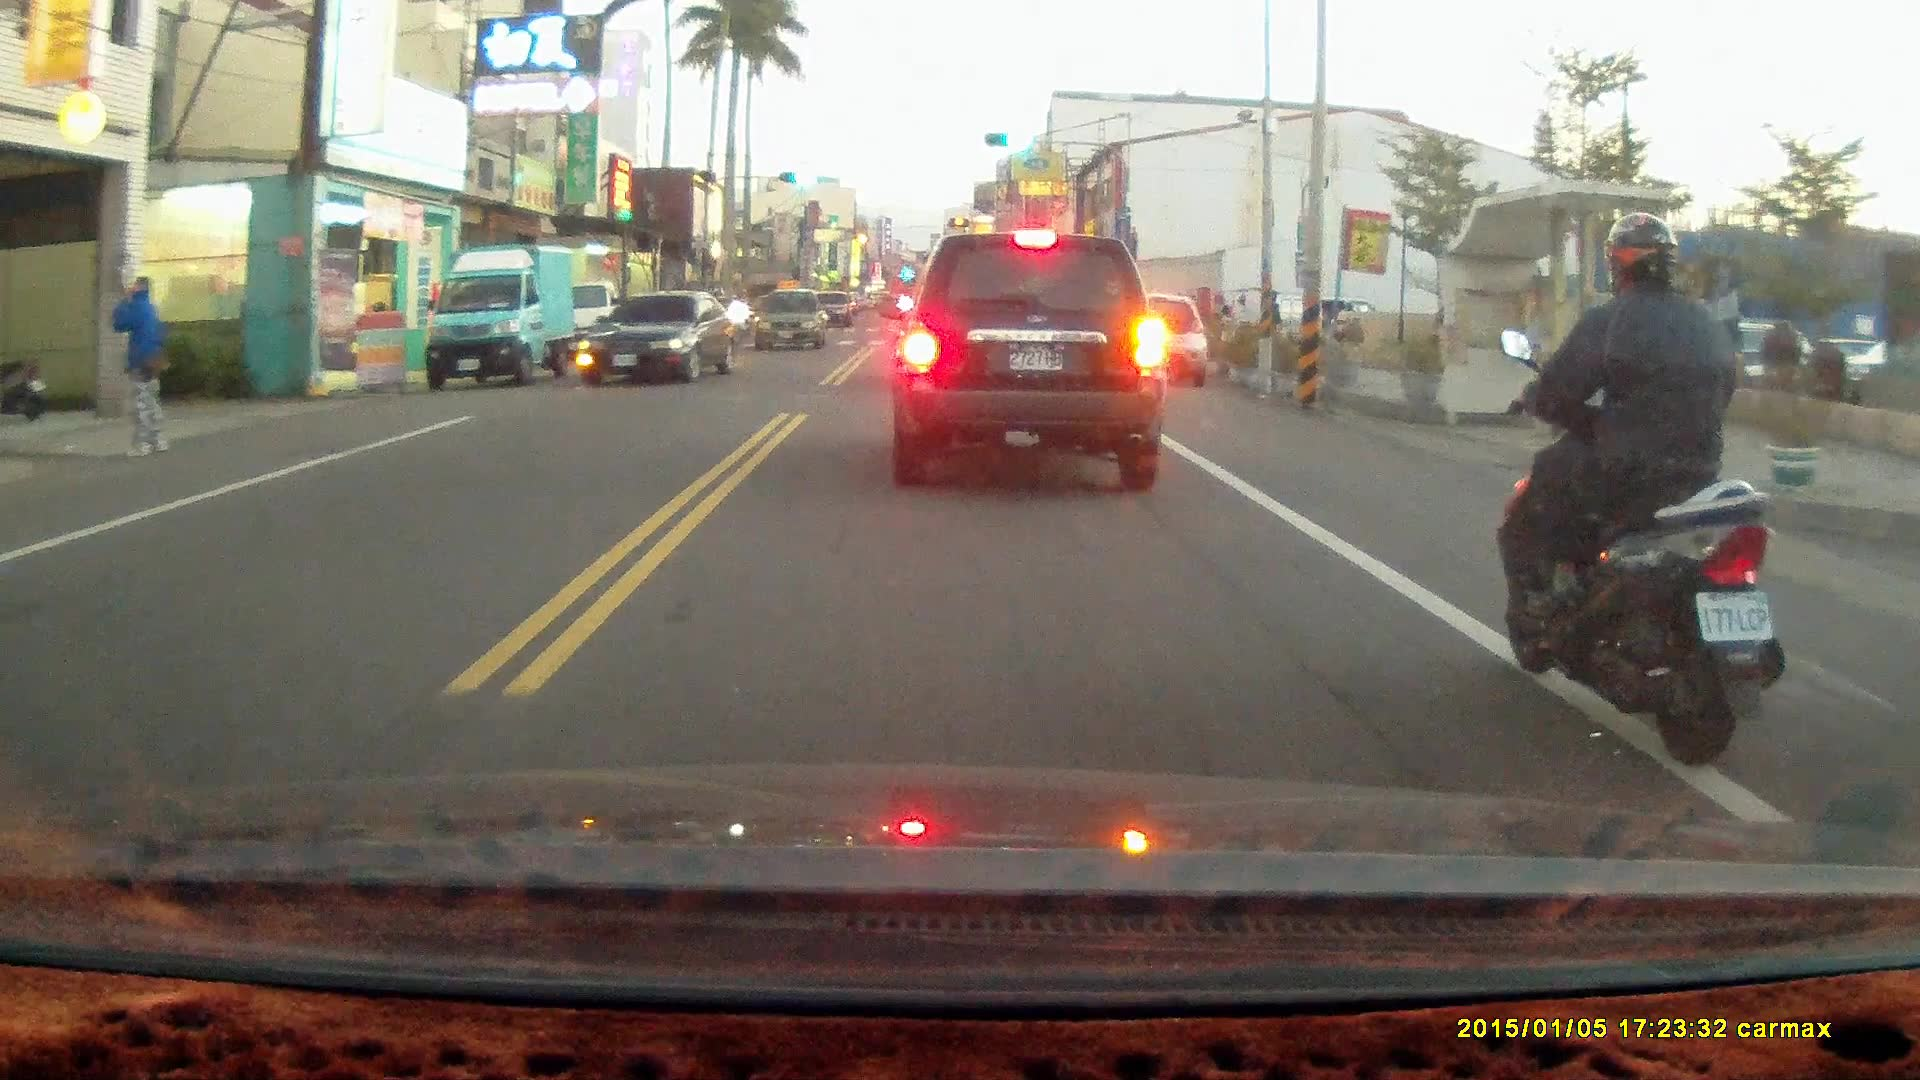pedestrian: (106, 275, 170, 459)
rider: (1493, 211, 1785, 771), (728, 288, 754, 345)
vehicle: (885, 233, 1168, 497), (423, 252, 570, 400), (578, 292, 751, 387), (1105, 293, 1212, 391), (752, 292, 828, 354)
